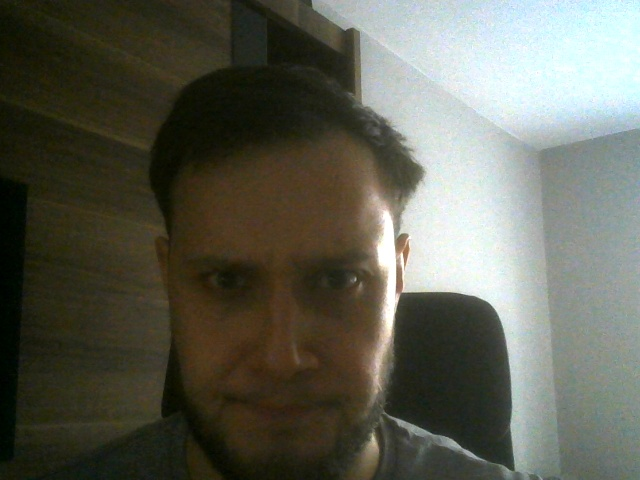angry: (148, 63, 426, 480)
